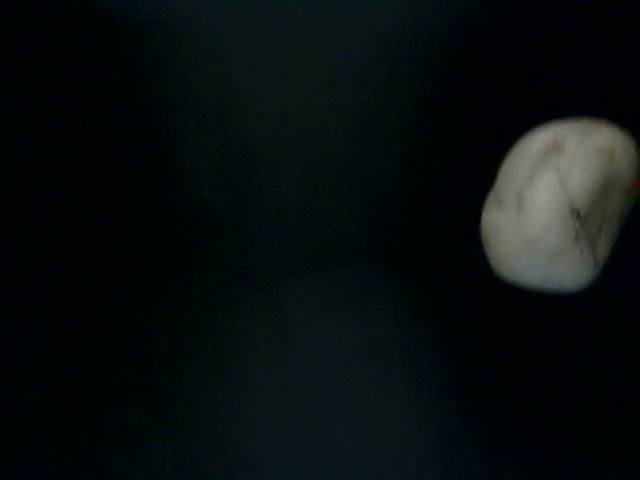QTLJ: (388, 1, 582, 132)
